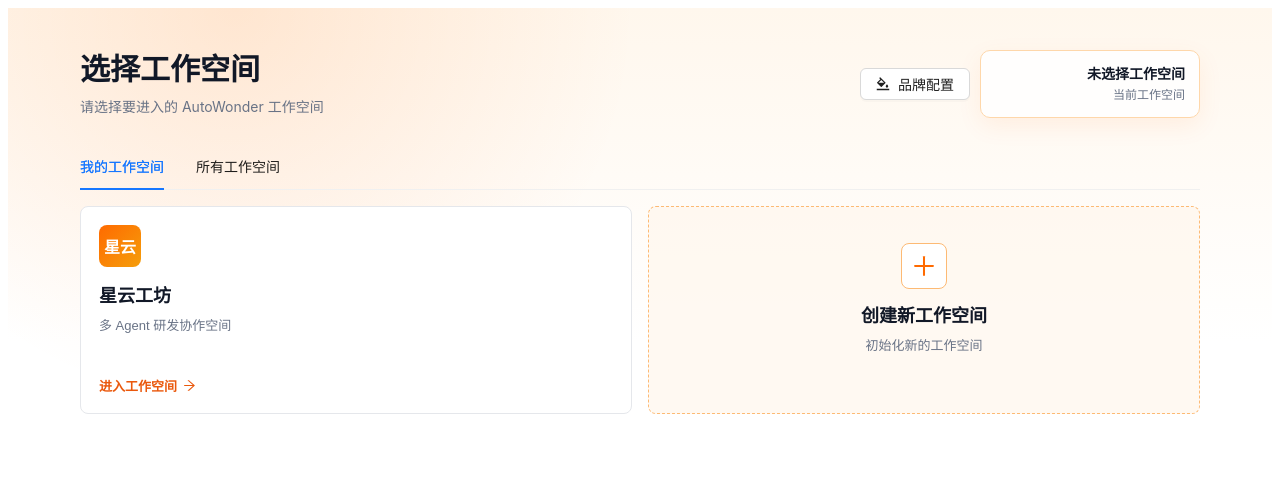
Test: WorkspaceSelectPage › shows my workspaces again after switching back from the discovery tab
Click the tab "所有工作空间" at (238, 167), box [196,156,280,178]
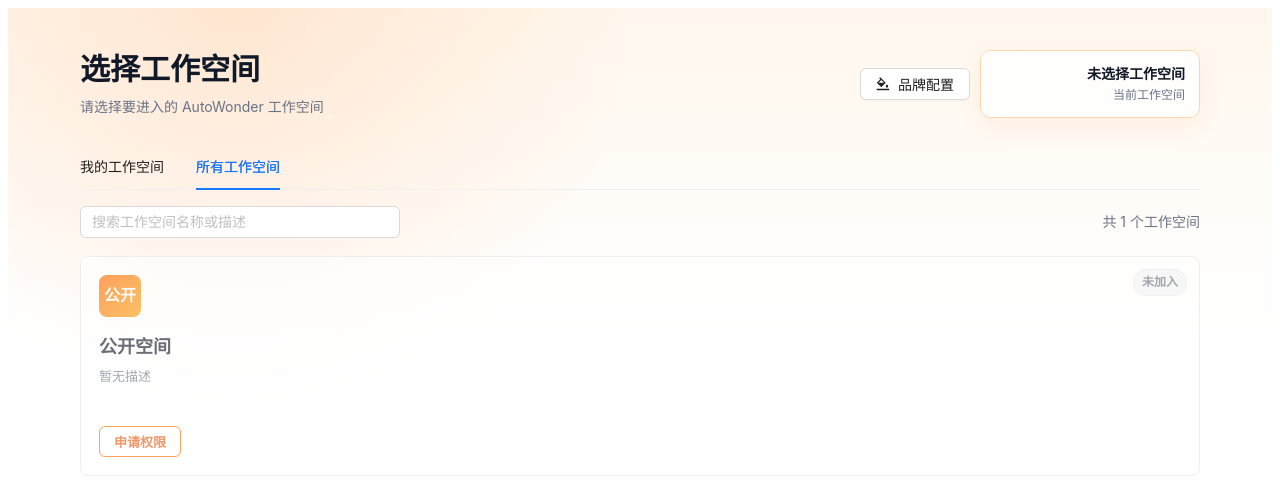
Now the text "共 1 个工作空间" is shown, box [1102,211,1200,233]
Click the tab "我的工作空间" at (122, 167), box [80,156,164,178]
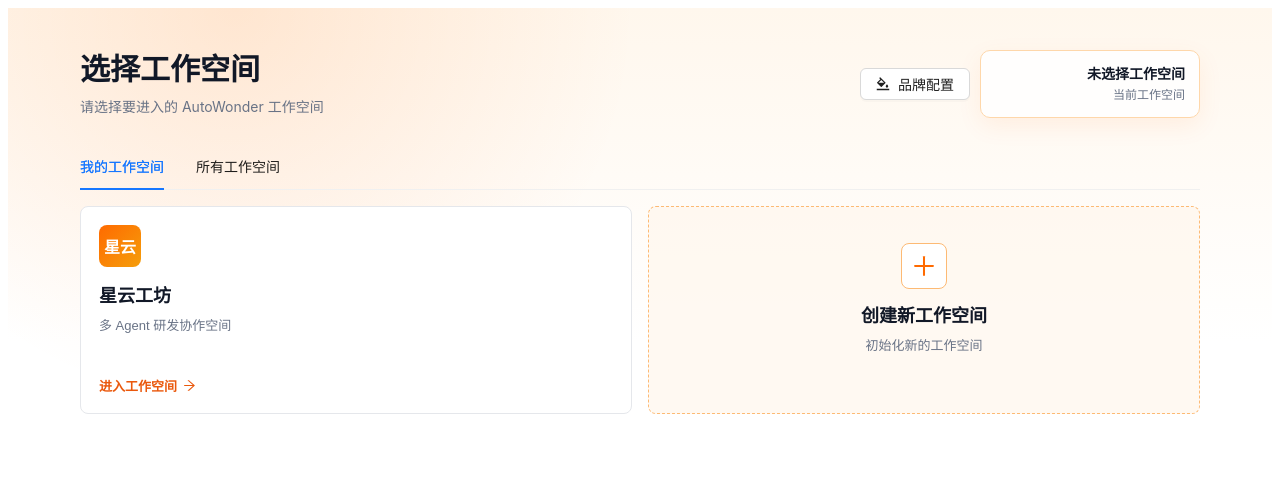
Now the element with test id "workspace-select-grid" is shown, box [80,206,1200,414]
Now the text "星云工坊" is shown, box [99,286,171,306]
Now the text "共 1 个工作空间" is gone
